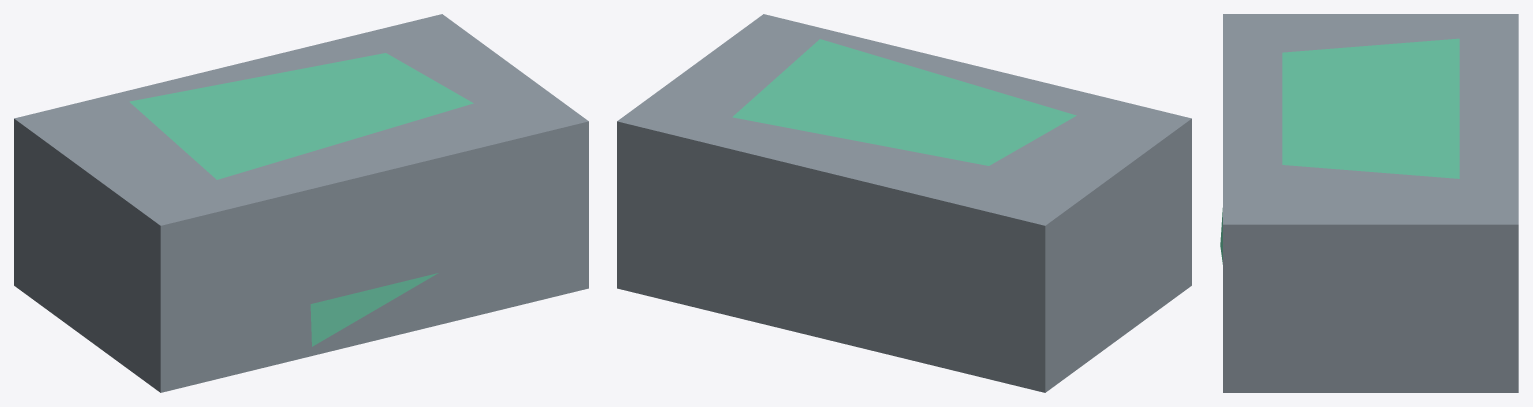
Rendered from CO_YuanCollector_LOD1.glb.
The picture shows the model from 3 angles, left to right: view 1: azimuth 30°, elevation 25°; view 2: azimuth 150°, elevation 25°; view 3: azimuth 270°, elevation 25°; orthographic projection.
Parts seen in each view (by area): view 1: EntranceGate; view 2: EntranceGate; view 3: EntranceGate.
Part boxes in pixels (x1,y1,x2,y2): EntranceGate: [14, 14, 588, 392]; EntranceGate: [617, 14, 1191, 392]; EntranceGate: [1220, 14, 1518, 392].
Size of the model in its own units: 590 by 243 by 353.
